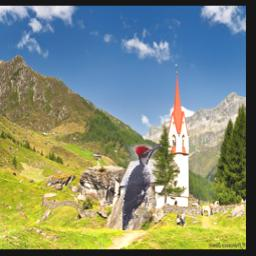Woodpecker: (121, 145, 161, 231)
